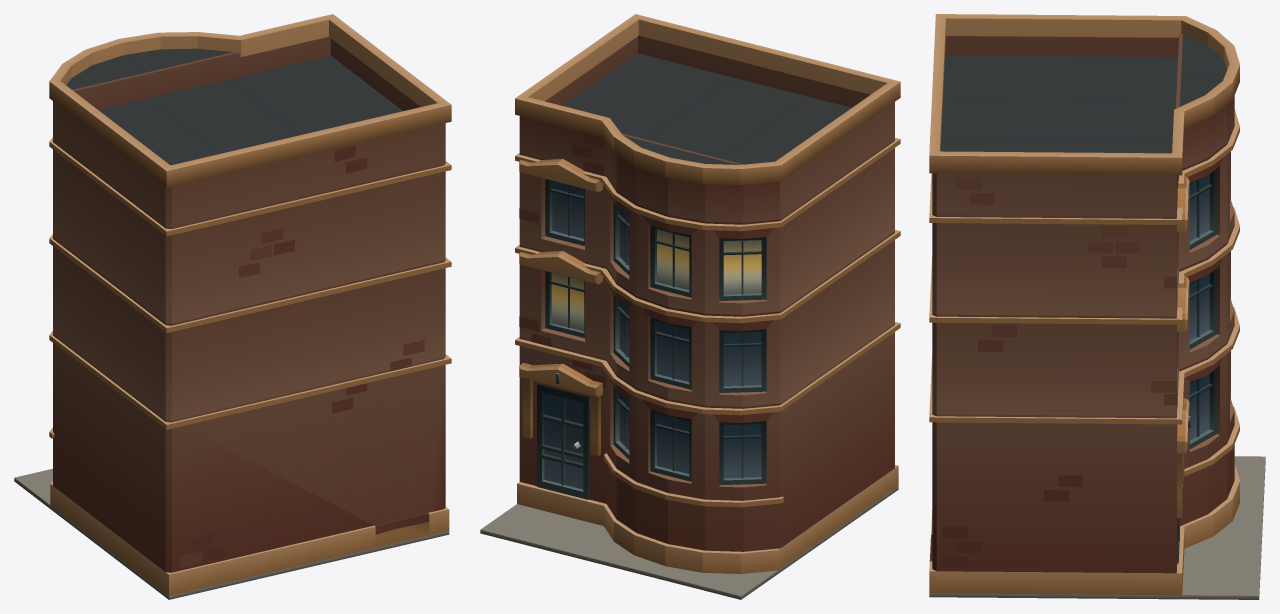
The model's file is BLD1210013.fbx.
The picture shows the model from 3 angles, left to right: view 1: azimuth 30°, elevation 25°; view 2: azimuth 150°, elevation 25°; view 3: azimuth 270°, elevation 25°; orthographic projection. The views are drawn at different scales.
Visible parts, largest first — view 1: smBLD1210013; view 2: smBLD1210013; view 3: smBLD1210013.
Boxes of the visible parts, x1,y1,x2,y2 form: smBLD1210013: (14,14,451,599); smBLD1210013: (480,14,900,599); smBLD1210013: (929,14,1265,599).
Size of the model in its own units: 937 by 1344 by 926.
1 material, 1 textured.
